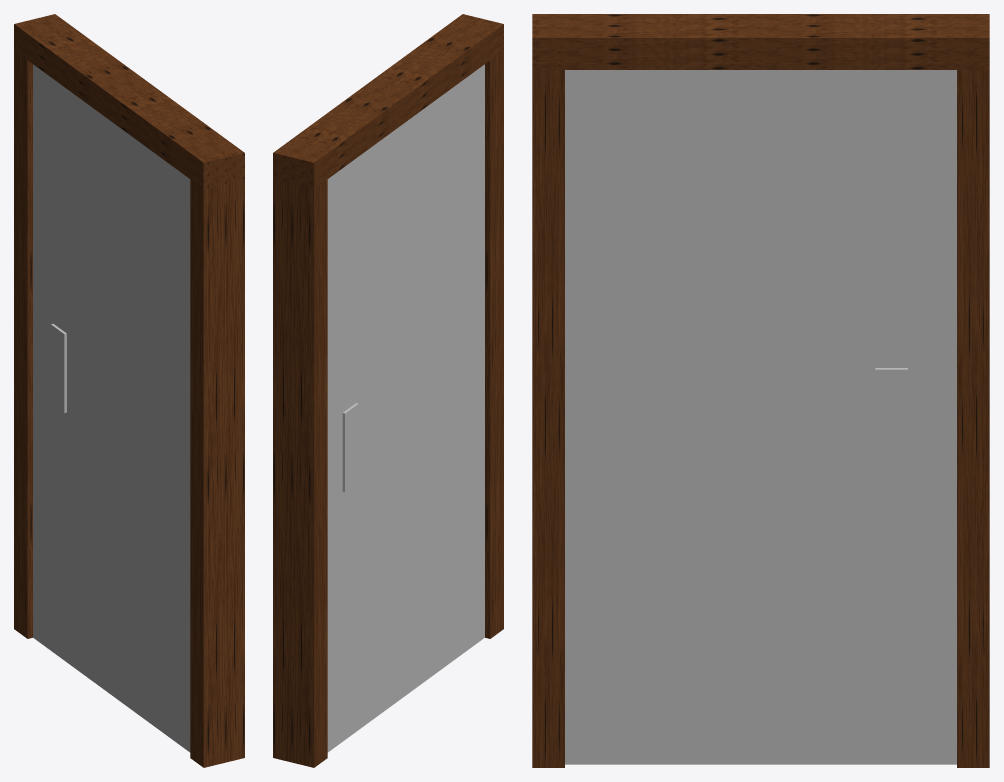
3 renders of one model, left to right at view 1: azimuth 30°, elevation 25°; view 2: azimuth 150°, elevation 25°; view 3: azimuth 270°, elevation 25°, orthographic. The views are drawn at different scales.
Visible parts, largest first — view 1: ドア, ドア枠, ドア枠.001, ドアノブ; view 2: ドア, ドア枠, ドア枠.001, ドアノブ; view 3: ドア, ドア枠, ドア枠.001, ドアノブ.
Boxes of the visible parts, x1,y1,x2,y2 form: ドア: [33, 64, 190, 752]; ドア枠: [14, 50, 244, 767]; ドア枠.001: [14, 14, 244, 188]; ドアノブ: [51, 323, 66, 412]; ドア: [327, 64, 484, 752]; ドア枠: [273, 50, 503, 767]; ドア枠.001: [273, 14, 503, 188]; ドアノブ: [342, 403, 358, 492]; ドア: [565, 70, 956, 764]; ドア枠: [532, 70, 989, 767]; ドア枠.001: [532, 14, 989, 69]; ドアノブ: [875, 368, 907, 464].
Size of the model in its own units: 2.45 by 34.5 by 19.6.
